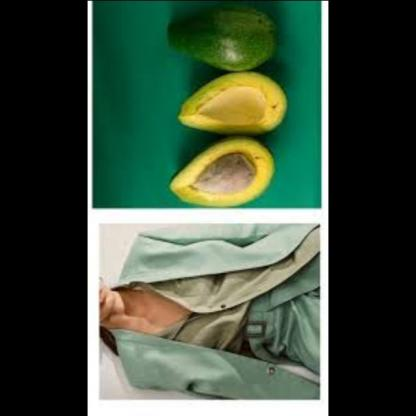avocado: (163, 139, 290, 221), (163, 0, 283, 70), (165, 76, 299, 132)
